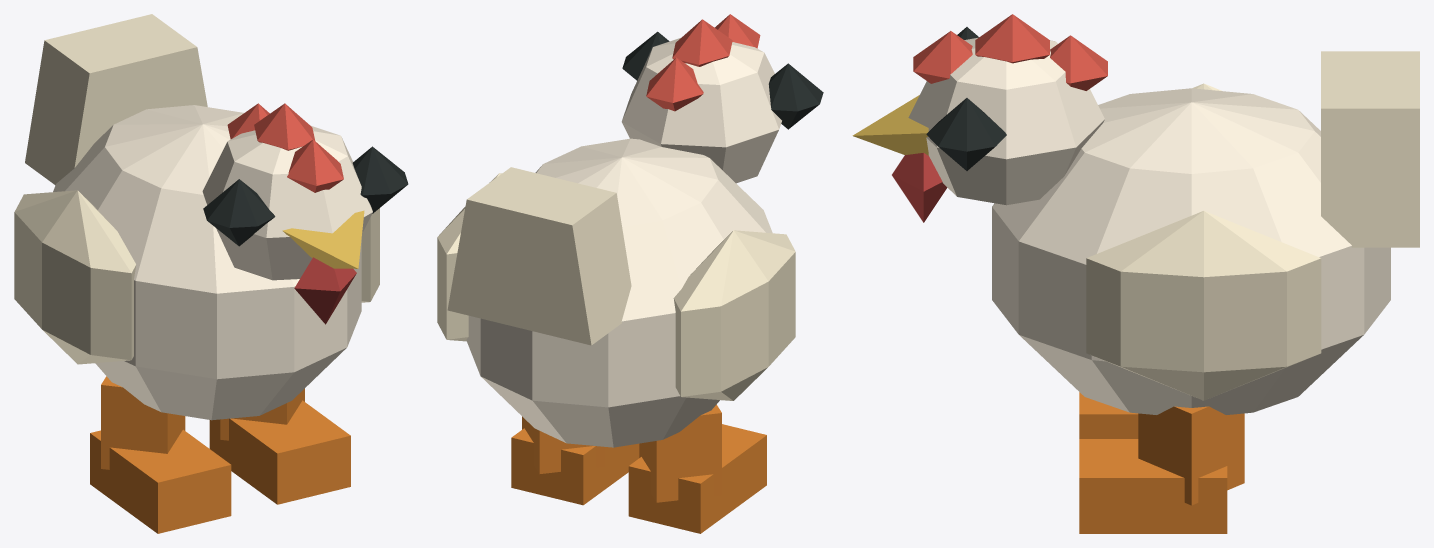
The model's file is chicken.glb.
3 views of the same model, side by side, from view 1: azimuth 30°, elevation 25°; view 2: azimuth 150°, elevation 25°; view 3: azimuth 270°, elevation 25° (orthographic). The views are drawn at different scales.
Visible parts, largest first — view 1: Plump_hen_body, Upright_tail, Rounded_wing, Hen_head, Orange_foot, Orange_foot.001, Orange_leg, Black_bead_eye, Golden_beak, Red_wattle, Black_bead_eye.001, Red_comb_lobe (+4 smaller); view 2: Plump_hen_body, Upright_tail, Rounded_wing, Hen_head, Orange_foot, Orange_foot.001, Orange_leg, Rounded_wing.001, Black_bead_eye, Red_comb_lobe.002, Red_comb_lobe.001, Orange_leg.001 (+2 smaller); view 3: Plump_hen_body, Rounded_wing.001, Upright_tail, Hen_head, Orange_foot.001, Orange_leg.001, Black_bead_eye.001, Red_comb_lobe.001, Golden_beak, Red_wattle, Orange_foot, Red_comb_lobe.002 (+1 smaller).
Boxes of the visible parts, x1=… form: Plump_hen_body: x1=53, y1=105, x2=361, y2=420; Upright_tail: x1=25, y1=14, x2=207, y2=185; Rounded_wing: x1=14, y1=190, x2=136, y2=364; Hen_head: x1=202, y1=126, x2=372, y2=280; Orange_foot: x1=90, y1=429, x2=231, y2=533; Orange_foot.001: x1=209, y1=400, x2=350, y2=504; Orange_leg: x1=101, y1=376, x2=185, y2=469; Black_bead_eye: x1=203, y1=179, x2=275, y2=246; Golden_beak: x1=282, y1=210, x2=364, y2=268; Red_wattle: x1=294, y1=257, x2=356, y2=324; Black_bead_eye.001: x1=352, y1=146, x2=408, y2=213; Red_comb_lobe: x1=287, y1=139, x2=343, y2=192; Plump_hen_body: x1=466, y1=138, x2=772, y2=447; Upright_tail: x1=447, y1=167, x2=631, y2=345; Rounded_wing: x1=673, y1=230, x2=795, y2=400; Hen_head: x1=621, y1=38, x2=781, y2=183; Orange_foot: x1=628, y1=424, x2=766, y2=533; Orange_foot.001: x1=511, y1=428, x2=639, y2=505; Orange_leg: x1=639, y1=404, x2=721, y2=502; Rounded_wing.001: x1=437, y1=173, x2=501, y2=341; Black_bead_eye: x1=768, y1=63, x2=823, y2=129; Red_comb_lobe.002: x1=646, y1=57, x2=703, y2=111; Red_comb_lobe.001: x1=672, y1=19, x2=732, y2=66; Orange_leg.001: x1=522, y1=416, x2=604, y2=473; Plump_hen_body: x1=992, y1=88, x2=1390, y2=414; Rounded_wing.001: x1=1086, y1=211, x2=1321, y2=400; Upright_tail: x1=1321, y1=51, x2=1419, y2=247; Hen_head: x1=908, y1=37, x2=1104, y2=205; Orange_foot.001: x1=1079, y1=439, x2=1227, y2=533; Orange_leg.001: x1=1138, y1=406, x2=1244, y2=505; Black_bead_eye.001: x1=926, y1=98, x2=1006, y2=170; Red_comb_lobe.001: x1=975, y1=14, x2=1049, y2=63; Golden_beak: x1=852, y1=95, x2=928, y2=155; Red_wattle: x1=892, y1=152, x2=947, y2=222; Orange_foot: x1=1079, y1=392, x2=1138, y2=438; Red_comb_lobe.002: x1=1050, y1=35, x2=1107, y2=90.
Size of the model in its own units: 0.3167 by 0.419 by 0.46.
